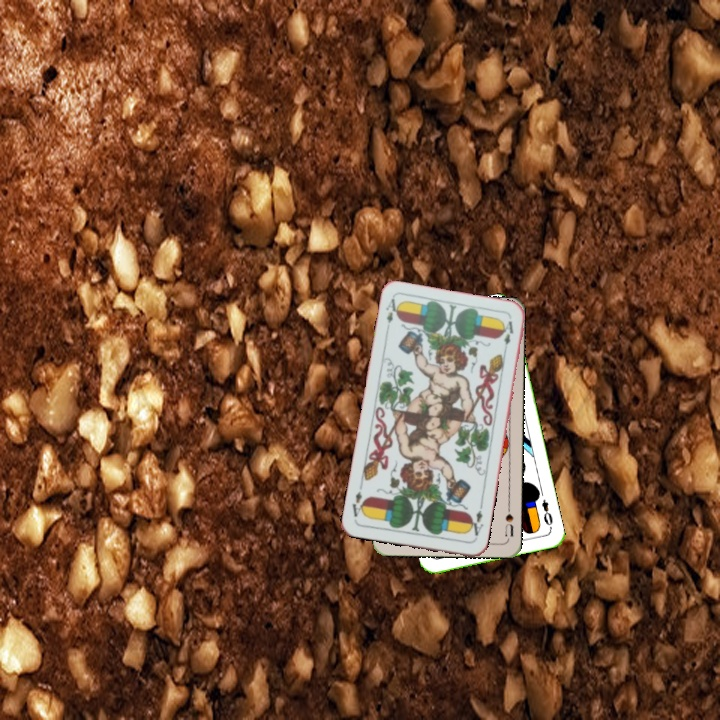EA: (465, 501, 486, 542), (382, 294, 402, 335)
EO: (538, 495, 555, 532)
SU: (501, 501, 516, 539)
